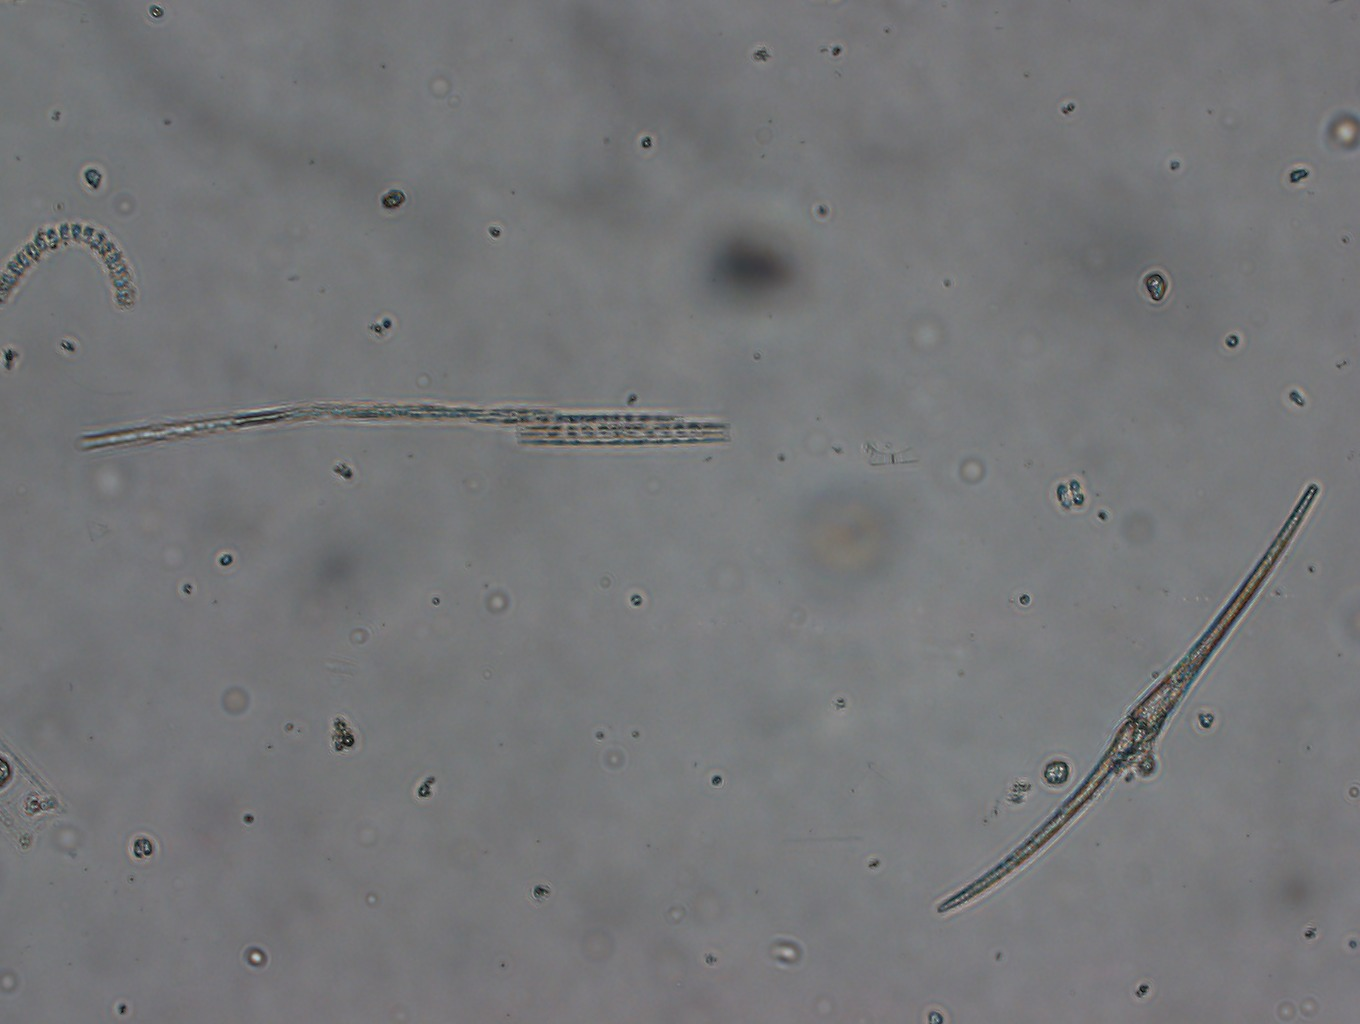ceratium fusus: (924, 454, 1320, 924)
